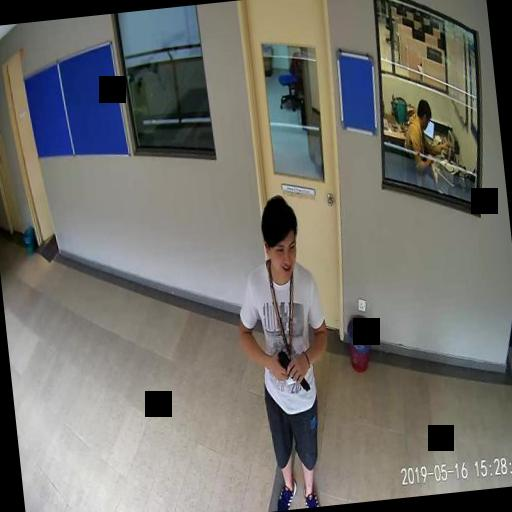Handgun: (275, 348, 308, 392)
